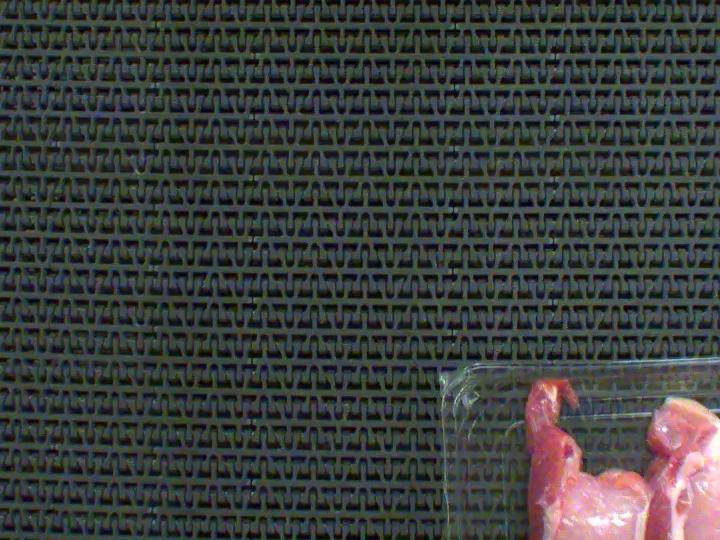packaging-error: (515, 354, 608, 416)
